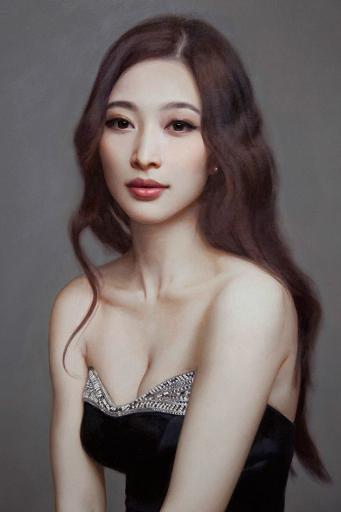left_eye: (164, 119, 198, 141)
left_lip_corner: (163, 182, 173, 198)
right_eye: (107, 119, 136, 136)
right_lip_corner: (125, 180, 133, 196)
